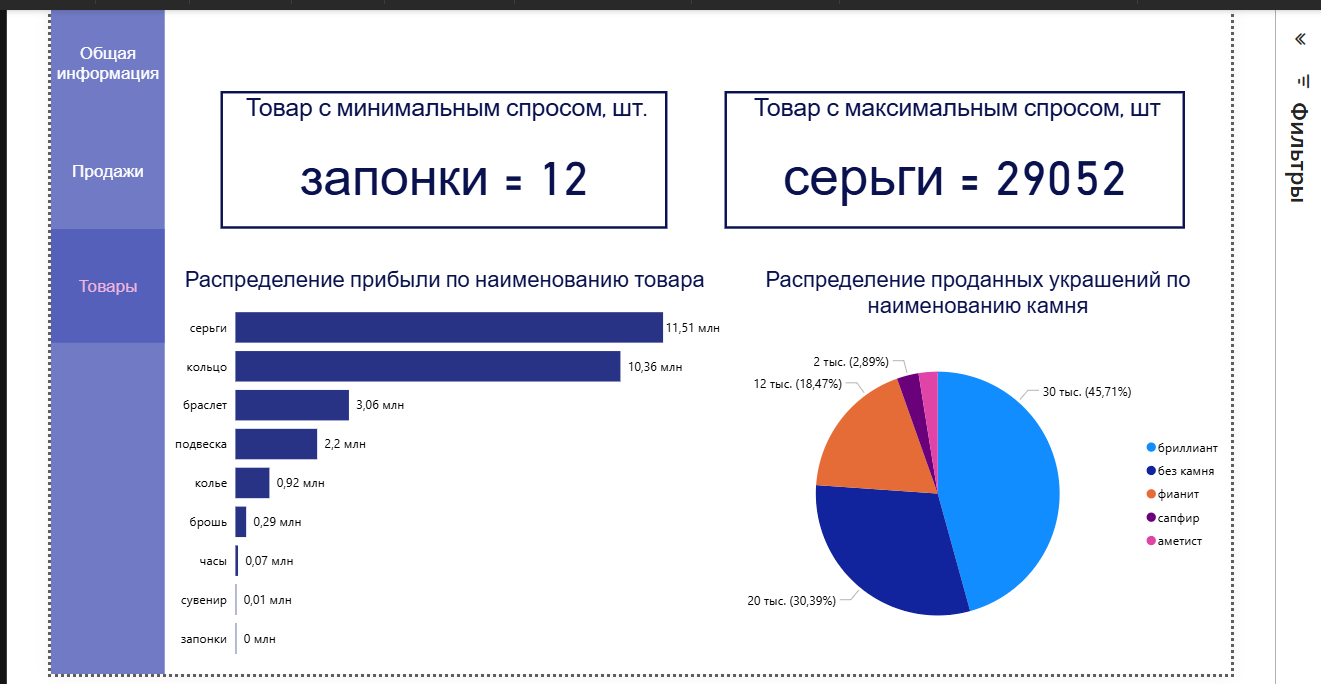

The page's visual inventory and layout, read from the dashboard file:
{"tool":"powerbi","page":{"name":"Товары","canvas":[1280,720],"ordinal":2},"visuals":[{"type":"actionButton","box":[0,0,123.6,720.6],"z":0},{"type":"actionButton","box":[0,0,123.6,115.5],"z":1000},{"type":"actionButton","box":[0,112.2,123.6,125.2],"z":2000},{"type":"actionButton","box":[0,237.5,123.6,123.6],"z":3000},{"type":"clusteredBarChart","title":"Распределение прибыли по наименованию товара","fields":{"Category":["jewelry-purchases.Product  name"],"Y":["jewelry-purchases._Прибыль"]},"box":[123.6,278.1,606.7,442.4],"z":4000},{"type":"pieChart","title":"Распределение проданных украшений по наименованию камня","fields":{"Y":["Max(Топ камней.камни)"],"Category":["Топ камней.Stone"]},"box":[730.3,278.1,549.8,442.4],"z":5000},{"type":"card","title":"Товар с минимальным спросом, шт.","fields":{"Values":["jewelry-purchases.Мера"]},"box":[183.8,87.8,484.7,149.6],"z":6000},{"type":"card","title":"Товар с максимальным спросом, шт","fields":{"Values":["jewelry-purchases.Мера 2"]},"box":[730.3,87.8,499.3,149.6],"z":7000}]}

Visuals, with their boxes on the page's 1280x720 design canvas (x1, y1, x2, y2). These are canvas units, not pixel positions in the 1321x684 screenshot, which may show the page scaled, cropped or inside an application window:
actionButton: left=0, top=0, right=124, bottom=721
actionButton: left=0, top=0, right=124, bottom=116
actionButton: left=0, top=112, right=124, bottom=237
actionButton: left=0, top=238, right=124, bottom=361
"Распределение прибыли по наименованию товара" clusteredBarChart: left=124, top=278, right=730, bottom=720
"Распределение проданных украшений по наименованию камня" pieChart: left=730, top=278, right=1280, bottom=720
"Товар с минимальным спросом, шт." card: left=184, top=88, right=668, bottom=237
"Товар с максимальным спросом, шт" card: left=730, top=88, right=1230, bottom=237
